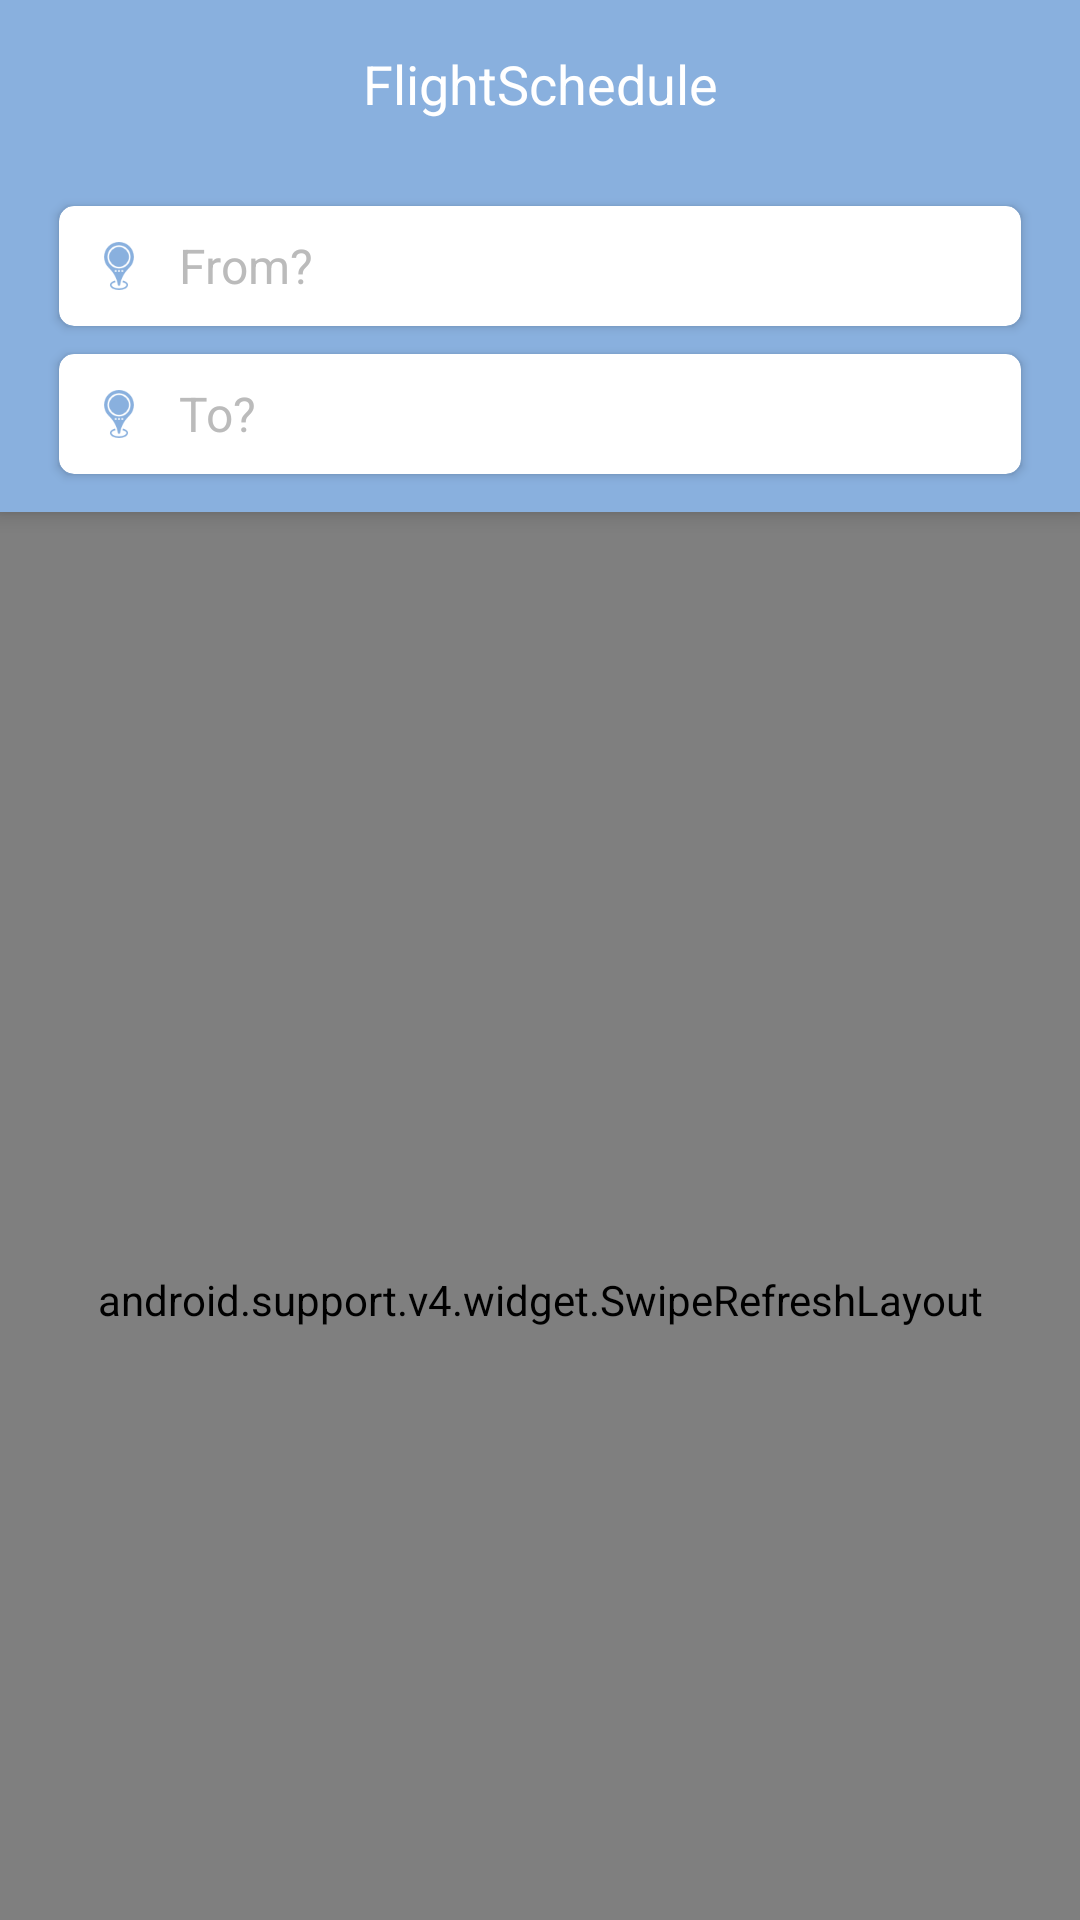

Point at icon controls on the screen. Image size 1080 × 1920, points as [x,y].
marker: [119,266], [119,414]
